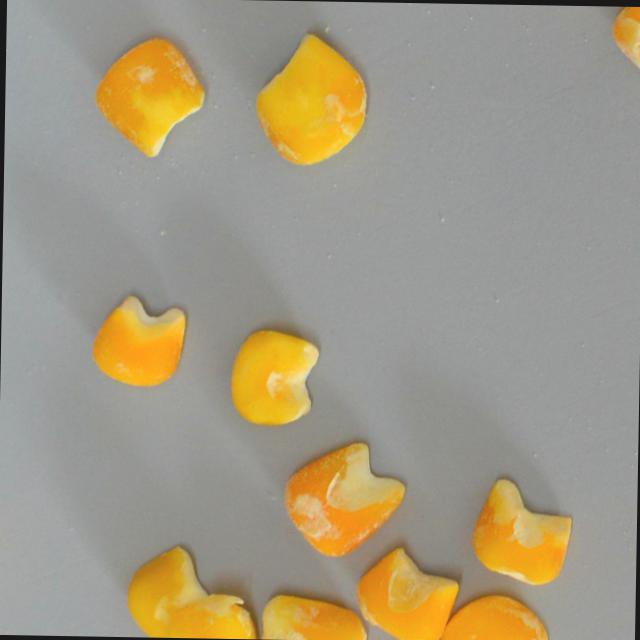no_canjicado: (227, 327, 319, 426), (89, 294, 187, 386), (126, 542, 208, 638)
pelicula: (254, 32, 366, 167), (281, 439, 404, 558), (94, 36, 204, 159), (469, 475, 572, 587), (353, 546, 459, 640), (254, 592, 365, 640), (437, 594, 546, 640), (168, 590, 256, 639), (609, 5, 640, 85)
